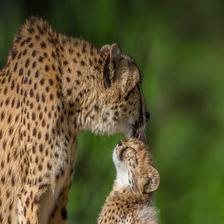Cheetah: (0, 16, 152, 224), (96, 137, 168, 223)
